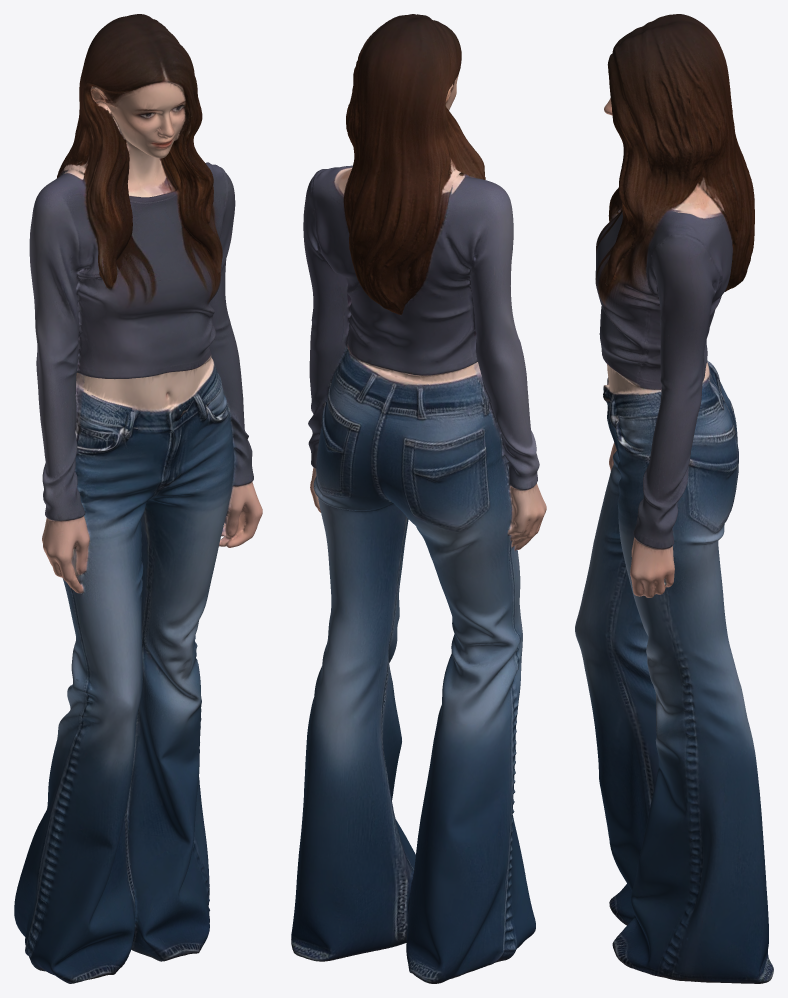
File: grey_crop_top_and_bell-bottom_jeans.glb
The picture shows the model from 3 angles, left to right: view 1: azimuth 30°, elevation 25°; view 2: azimuth 150°, elevation 25°; view 3: azimuth 270°, elevation 25°; orthographic projection.
Visible parts, largest first — view 1: Object_5, Object_6, Object_7; view 2: Object_6, Object_7, Object_5; view 3: Object_6, Object_5, Object_7.
Part boxes in pixels (x1=…): Object_5: x1=24, y1=23, x2=262, y2=983; Object_6: x1=14, y1=14, x2=250, y2=975; Object_7: x1=25, y1=87, x2=252, y2=971; Object_6: x1=291, y1=14, x2=535, y2=983; Object_7: x1=304, y1=64, x2=526, y2=963; Object_5: x1=308, y1=14, x2=546, y2=941; Object_6: x1=602, y1=14, x2=773, y2=983; Object_5: x1=575, y1=15, x2=726, y2=980; Object_7: x1=598, y1=48, x2=710, y2=977.
Size of the model in its own units: 0.4757 by 1.9 by 0.3685.
Materials: 1 (1 with a texture image).
